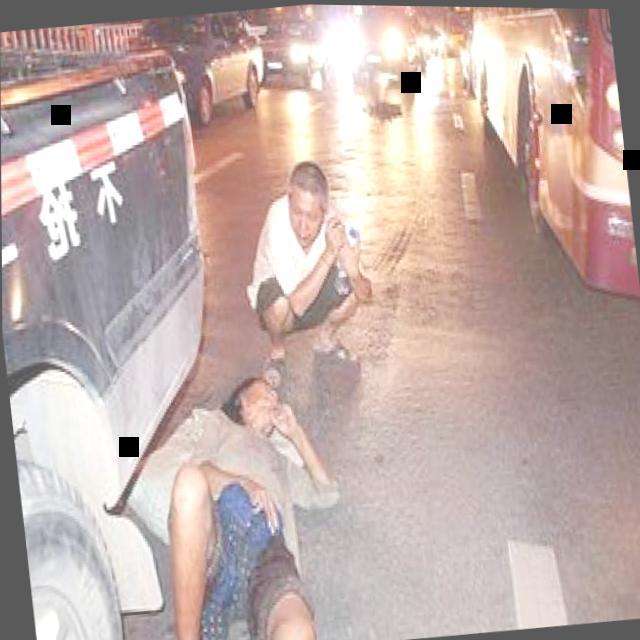Fall-Detected: (126, 343, 367, 640)
